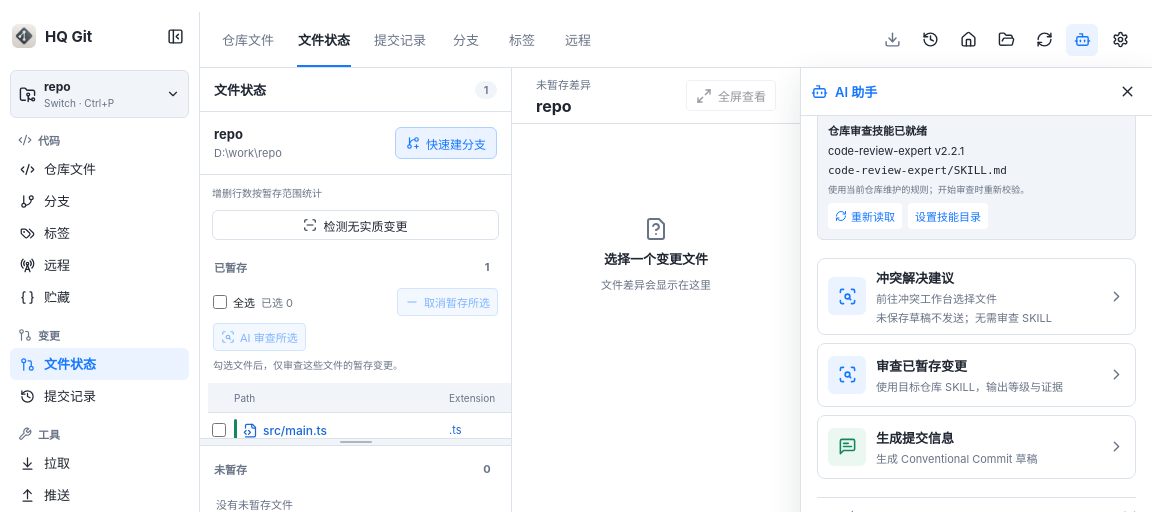
Test: AI drawer workflows › keeps a frozen finding visible when its staged path no longer exists
(page scrolled)
Click the button with aria-label "审查已暂存变更" at coordinates (847, 375), box [817,343,1136,407]
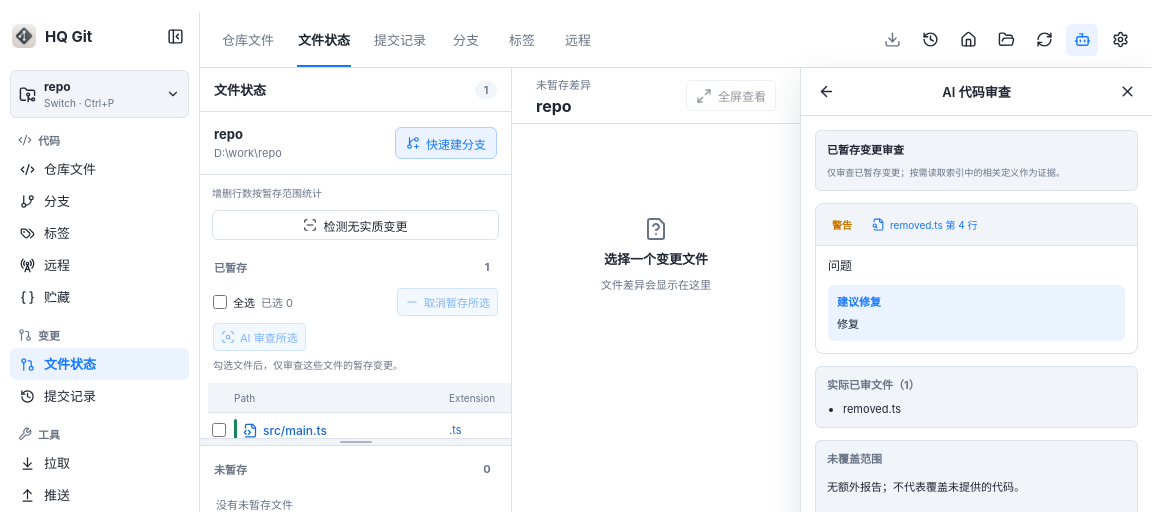
Click the button with aria-label "查看 removed.ts 第 4 行" at coordinates (934, 225), box [866,216,1127,233]
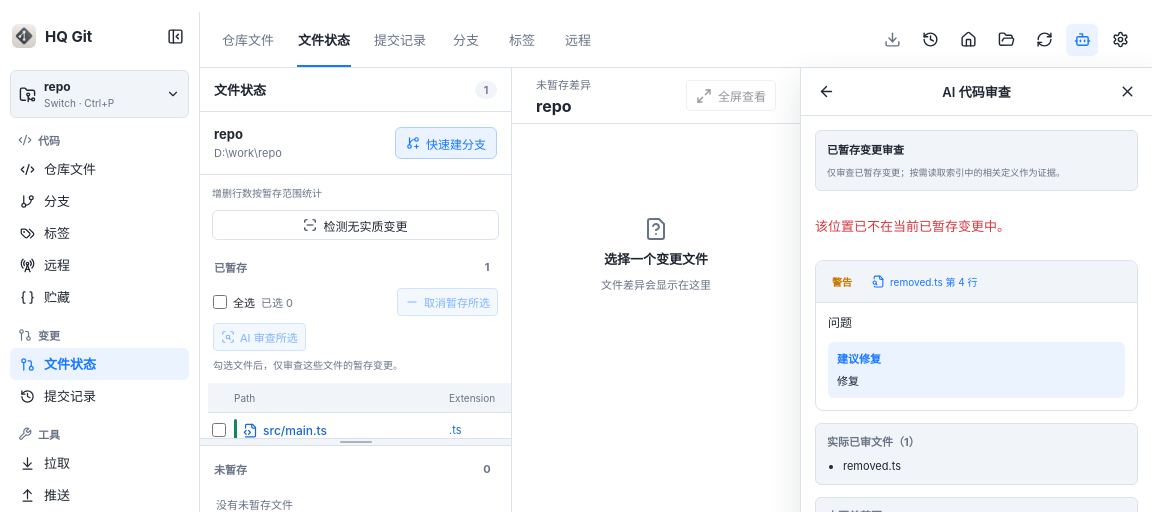
Expected: the text "问题" is shown, [828,315,852,330]
Now the text "该位置已不在当前已暂存变更中。" is shown, box [815,218,1010,234]
